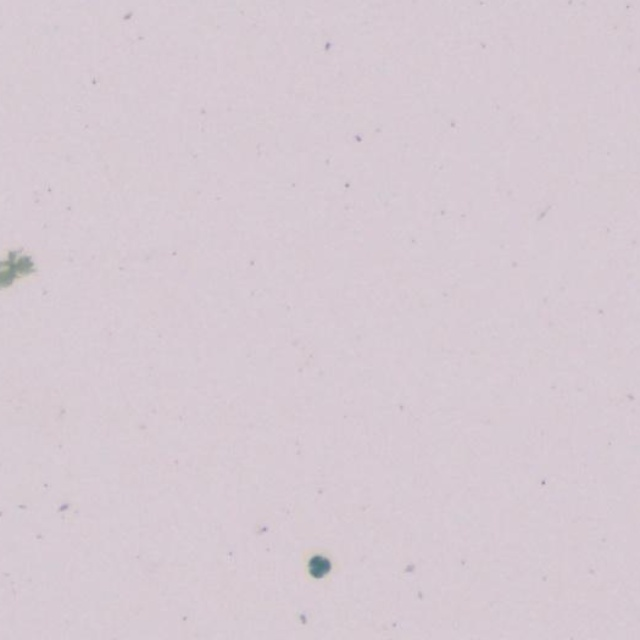non_viable: (308, 555, 330, 578)
